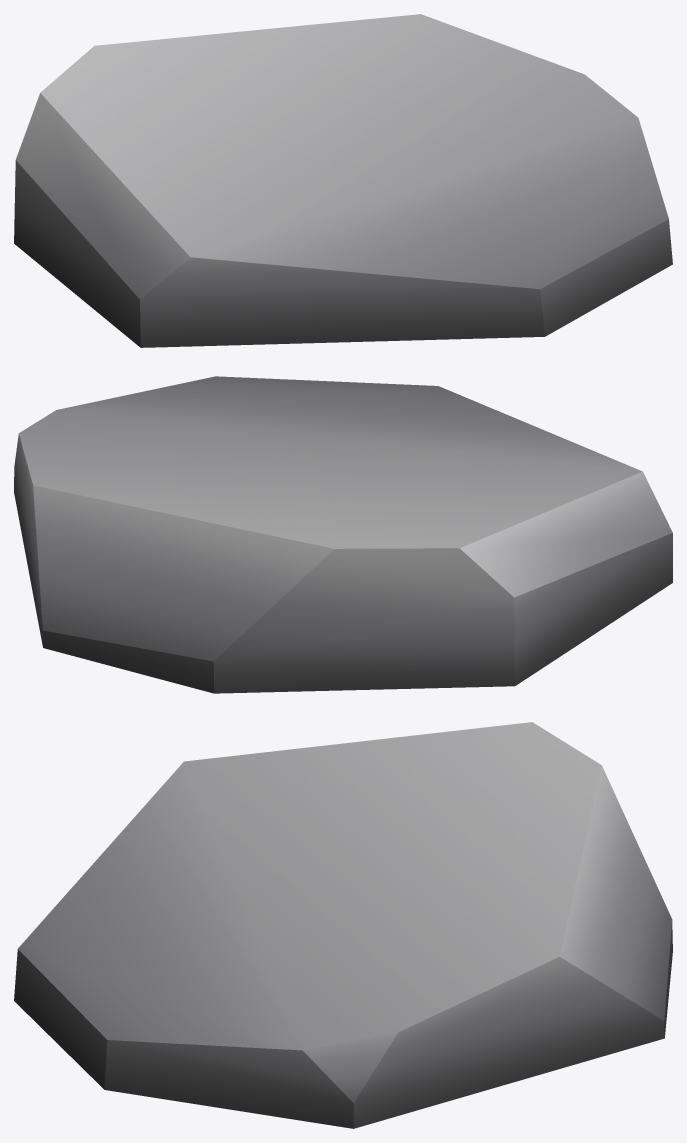
The model's file is RockSml-02.FBX.
3 views of the same model, one above another, from view 1: azimuth 30°, elevation 25°; view 2: azimuth 150°, elevation 25°; view 3: azimuth 270°, elevation 25° (orthographic). The views are drawn at different scales.
Parts seen in each view (by area): view 1: RockSml-02; view 2: RockSml-02; view 3: RockSml-02.
Part boxes in pixels (x1,y1,x2,y2): RockSml-02: (14, 14, 672, 347); RockSml-02: (14, 376, 672, 693); RockSml-02: (14, 722, 672, 1128).
Bounding box in the file's own units: 94.67 × 21.6 × 90.03.
Materials: 1 (1 with a texture image).
